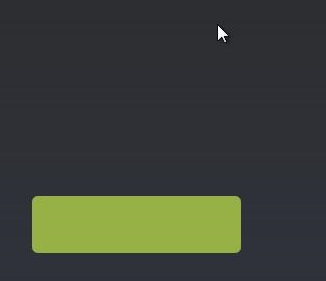cursor: (216, 23, 229, 44)
